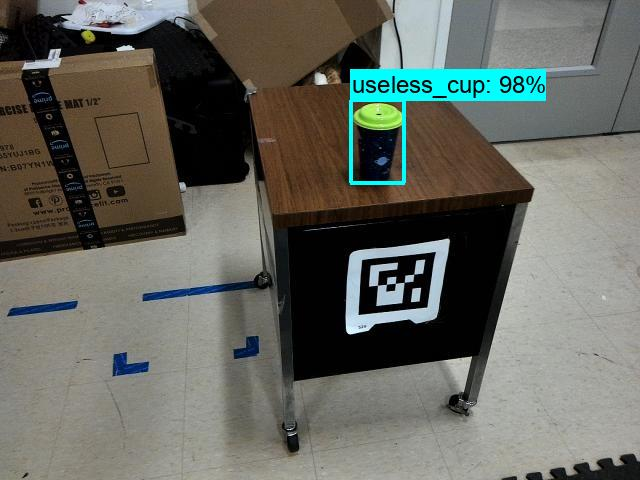useless_cup: (352, 102, 404, 180)
